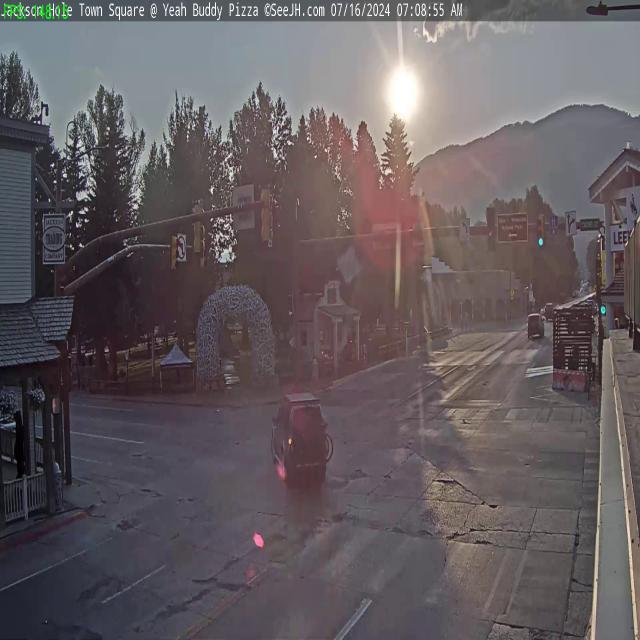suv: (269, 388, 331, 488), (527, 311, 544, 338)
traffic light: (260, 184, 274, 245), (190, 200, 204, 257), (170, 231, 180, 278), (487, 207, 496, 250), (537, 214, 545, 247)
